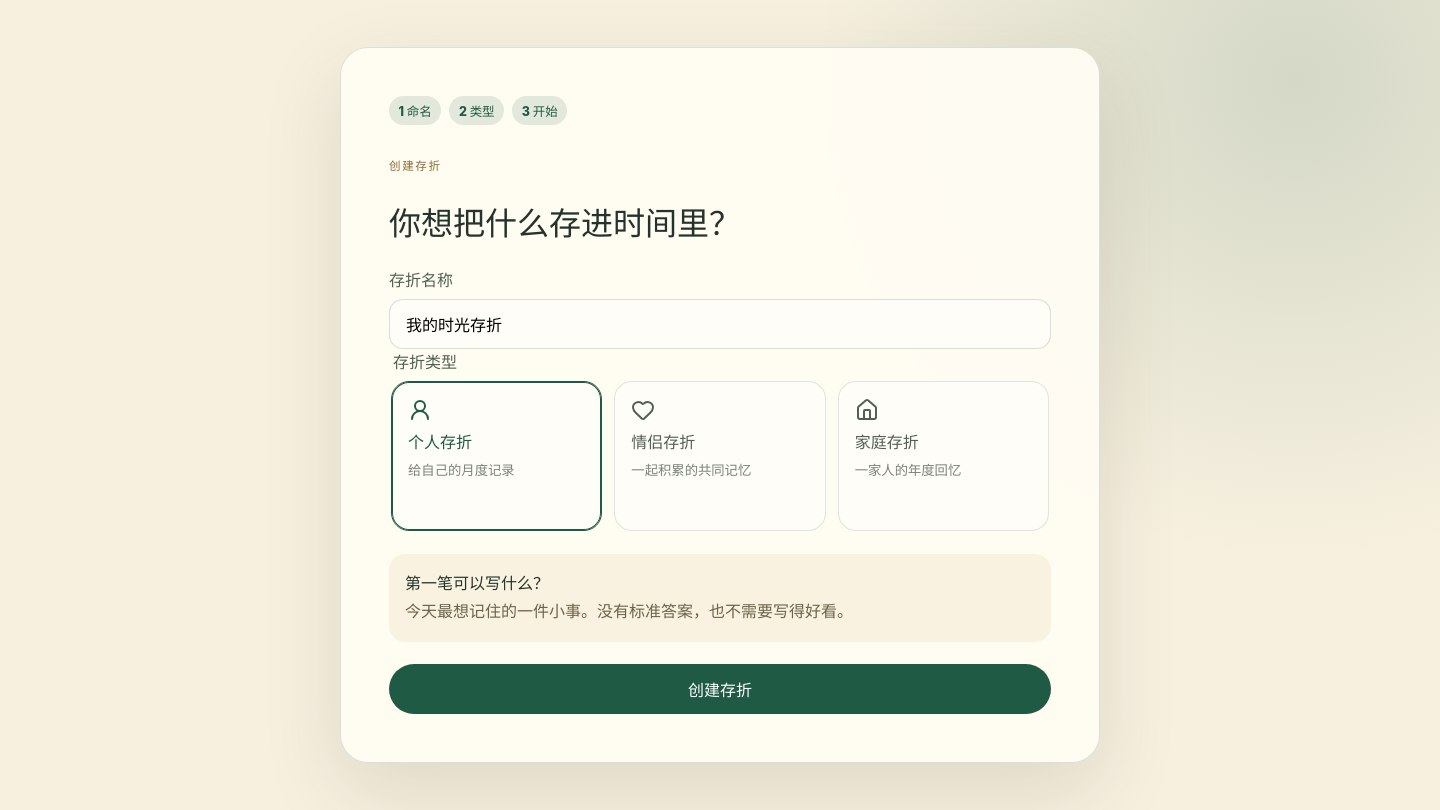
Test: onboarding › creates a couple vault and opens the dashboard
The image size is (1440, 810).
Replace the text in the field labelled "存折名称" with "我们的存折". click: point(720, 324)
box: left=389, top=298, right=1051, bottom=349
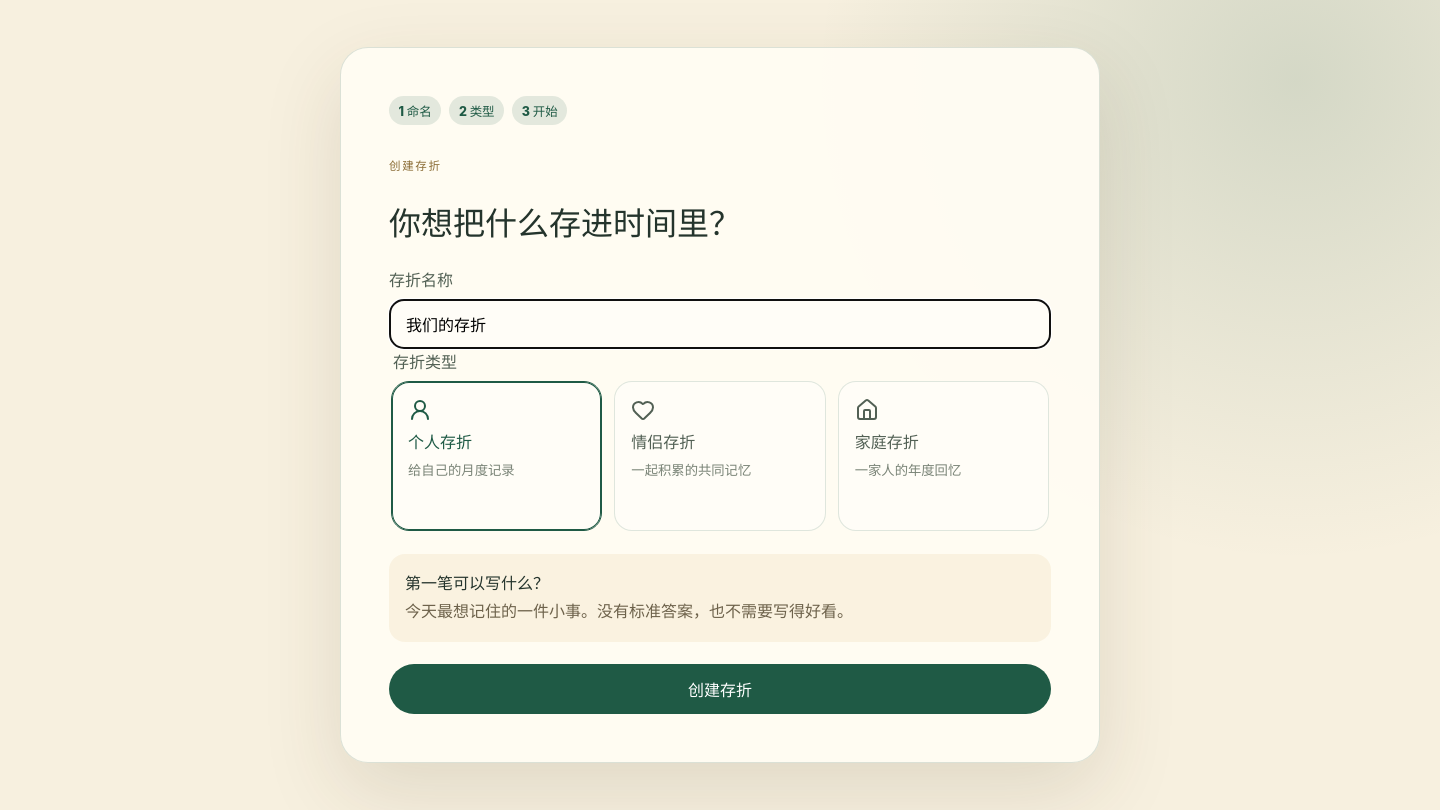
Click the button "情侣存折 一起积累的共同记忆". click: point(720, 456)
box: left=614, top=381, right=826, bottom=531
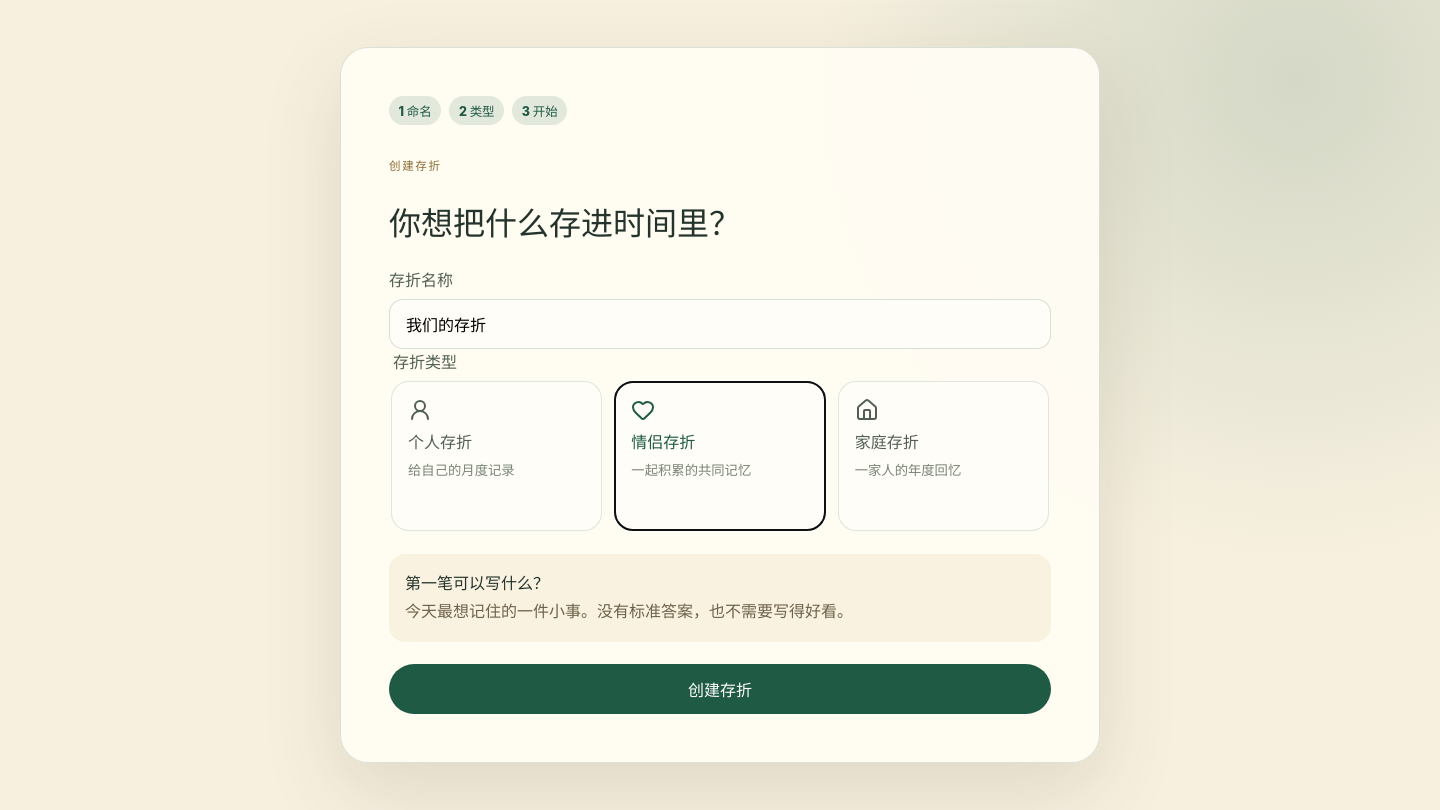
Click the button "创建存折". click: point(720, 689)
box: left=389, top=664, right=1051, bottom=714
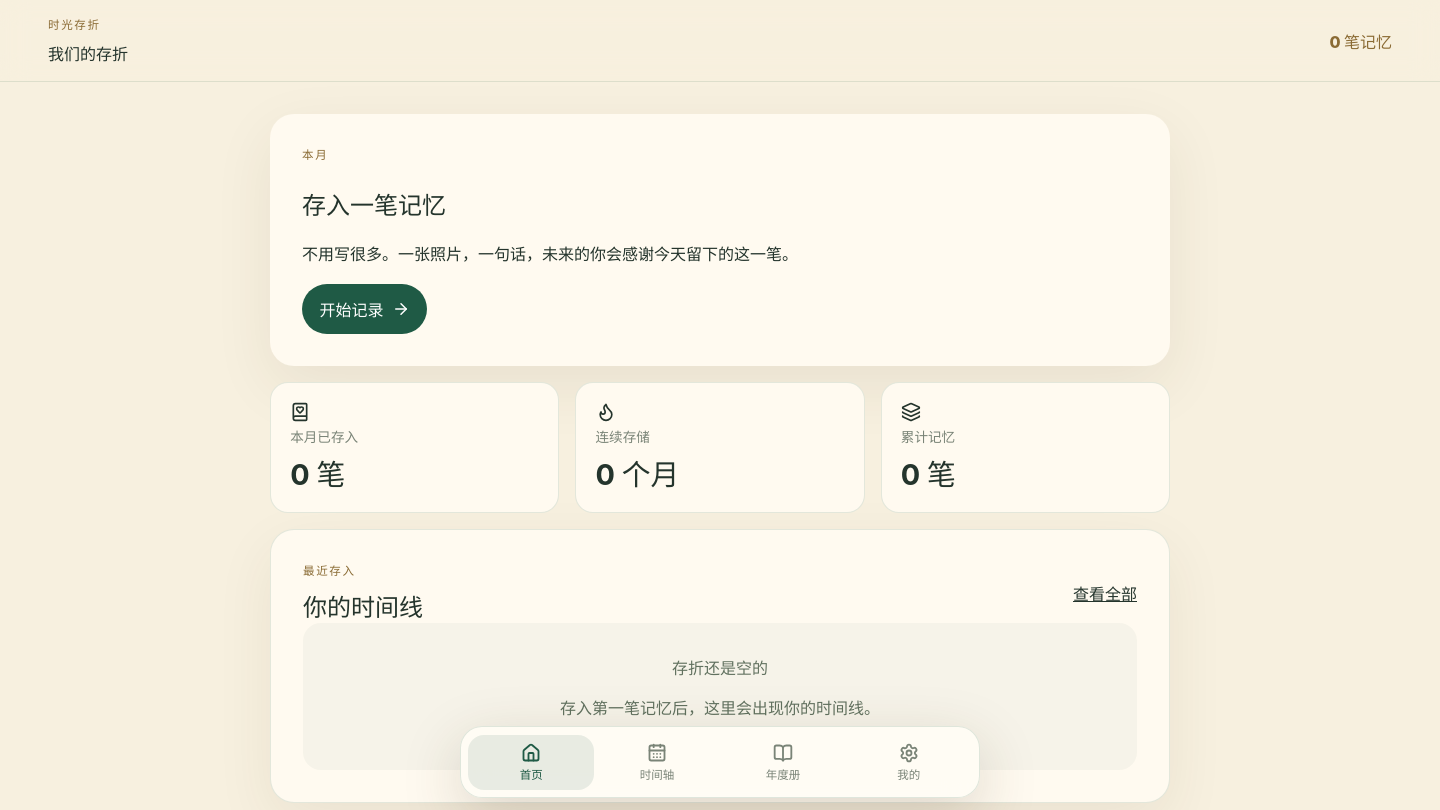
expect the heading "存入一笔记忆" is shown: met, box left=302, top=191, right=446, bottom=220
expect the text "我们的存折" is shown: met, box left=48, top=44, right=128, bottom=64
